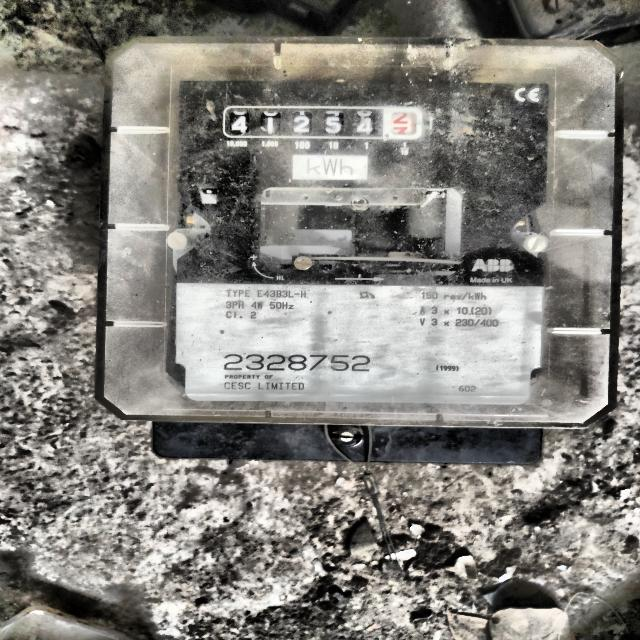Analog: (114, 38, 621, 462)
Reading: (221, 108, 417, 135)
Serial No.: (216, 350, 373, 373)
